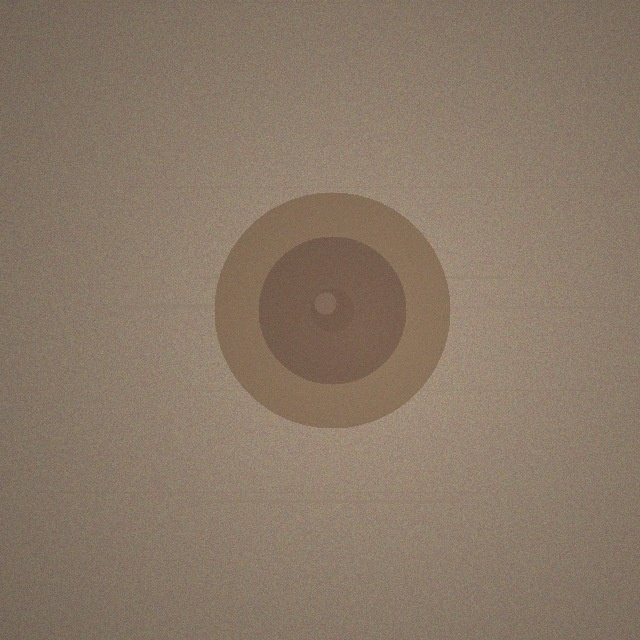good: (214, 192, 450, 428)
